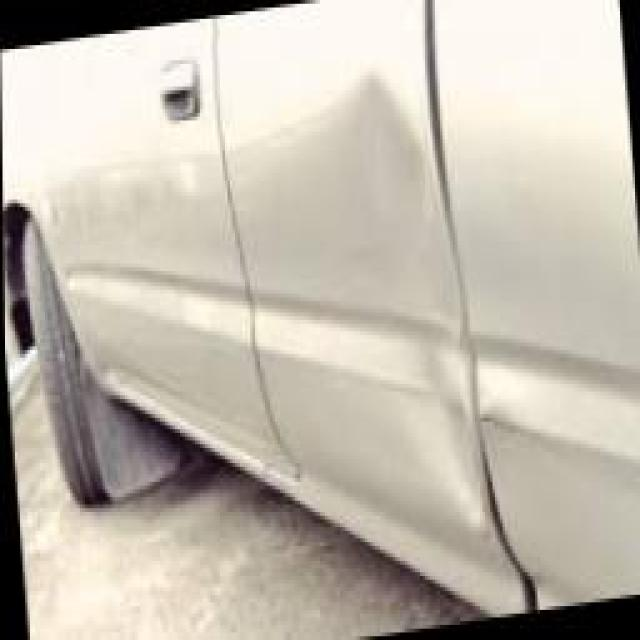Door: (256, 53, 506, 551)
